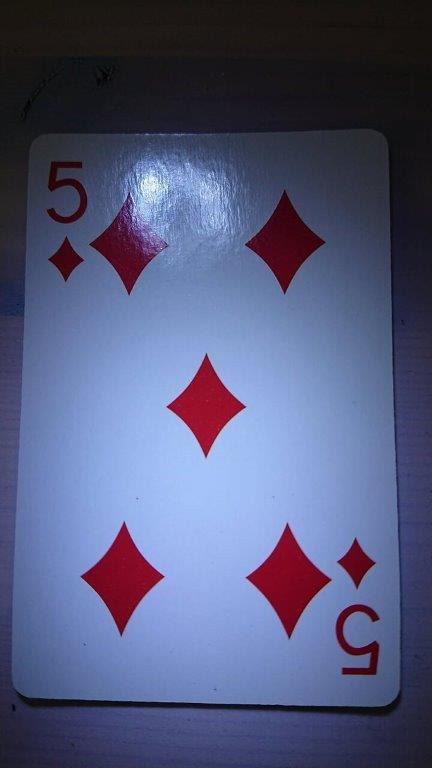5D: (8, 127, 404, 709)
